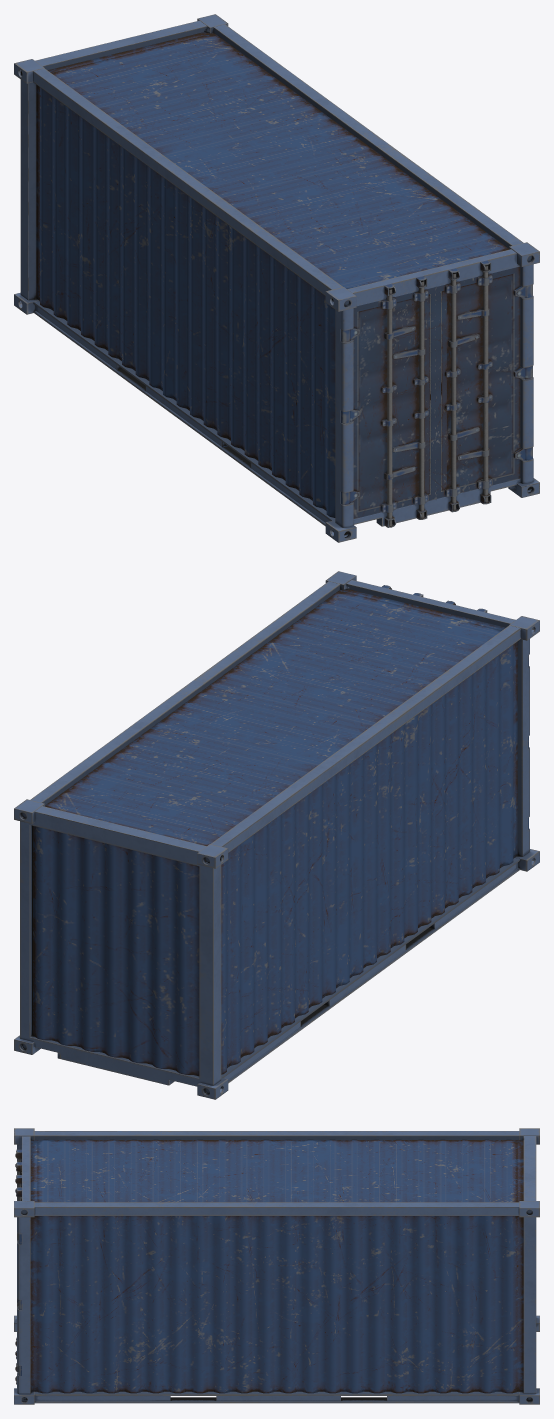
The model's file is Container.fbx.
The picture shows the model from 3 angles, top to bottom: view 1: azimuth 30°, elevation 25°; view 2: azimuth 150°, elevation 25°; view 3: azimuth 270°, elevation 25°; orthographic projection. The views are drawn at different scales.
Parts seen in each view (by area): view 1: Container; view 2: Container; view 3: Container.
Boxes of the visible parts, x1,y1,x2,y2 form: Container: (14,14,539,542); Container: (14,571,539,1099); Container: (14,1128,539,1404).
Size of the model in its own units: 2.28 by 6.35 by 2.62.
